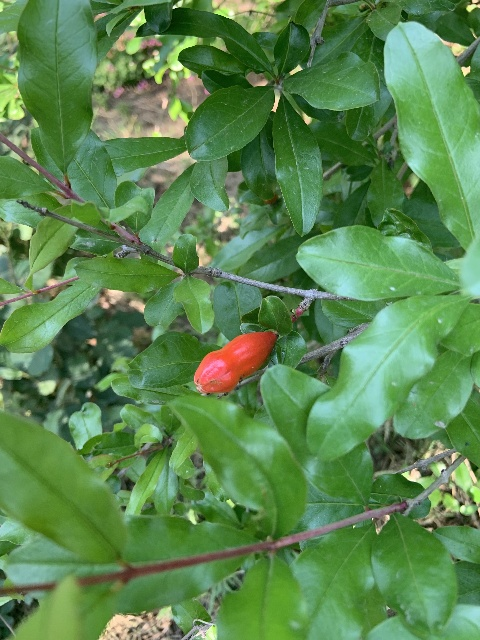bud: (193, 330, 276, 394)
